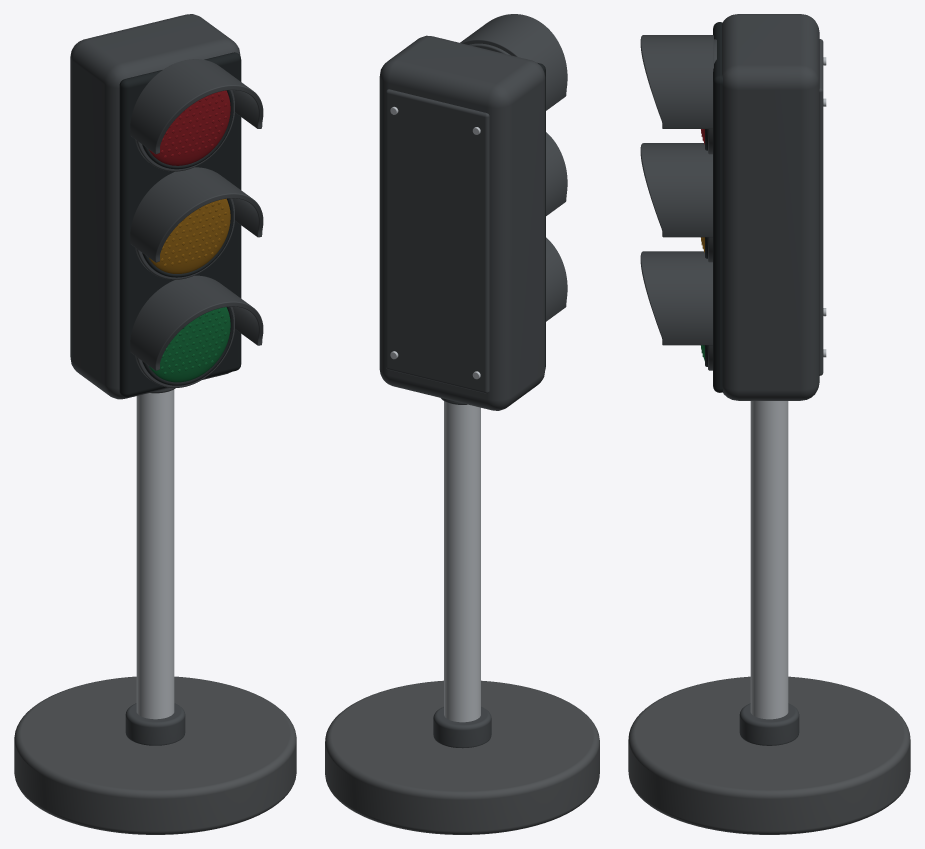
Rendered from semaforo.glb.
The picture shows the model from 3 angles, left to right: view 1: azimuth 30°, elevation 25°; view 2: azimuth 150°, elevation 25°; view 3: azimuth 270°, elevation 25°; orthographic projection. The views are drawn at different scales.
Visible parts, largest first — view 1: Base_circular, Carcasa_principal, Poste, Marco_frontal, Visera_roja, Visera_verde, Visera_ambar, Lente_verde, Lente_ambar, Lente_roja, Collarin_inferior, Junta_ambar (+2 smaller); view 2: Base_circular, Carcasa_principal, Placa_trasera, Poste, Visera_roja, Collarin_inferior, Visera_verde, Visera_ambar; view 3: Carcasa_principal, Base_circular, Poste, Visera_roja, Visera_ambar, Visera_verde, Marco_frontal, Collarin_inferior, Placa_trasera.
Part boxes in pixels (x1,y1,x2,y2): Base_circular: (14,676,296,834); Carcasa_principal: (70,14,240,399); Poste: (136,389,174,719); Marco_frontal: (119,52,241,397); Visera_roja: (130,59,263,154); Visera_verde: (130,275,263,370); Visera_ambar: (130,167,263,262); Lente_verde: (149,307,230,382); Lente_ambar: (149,198,230,273); Lente_roja: (149,90,230,165); Collarin_inferior: (125,703,185,745); Junta_ambar: (142,198,233,277); Base_circular: (325,680,599,834); Carcasa_principal: (379,35,545,410); Placa_trasera: (386,89,489,393); Poste: (444,401,480,722); Visera_roja: (460,14,567,110); Collarin_inferior: (433,707,491,748); Visera_verde: (546,237,567,321); Visera_ambar: (546,132,567,215); Carcasa_principal: (722,14,819,400); Base_circular: (628,676,910,834); Poste: (750,401,788,719); Visera_roja: (640,35,713,128); Visera_ambar: (640,143,712,237); Visera_verde: (640,251,712,345); Marco_frontal: (713,22,722,392); Collarin_inferior: (739,703,799,745); Placa_trasera: (819,39,823,375).
Bounding box in the file's own units: 0.104 × 0.3 × 0.104.
